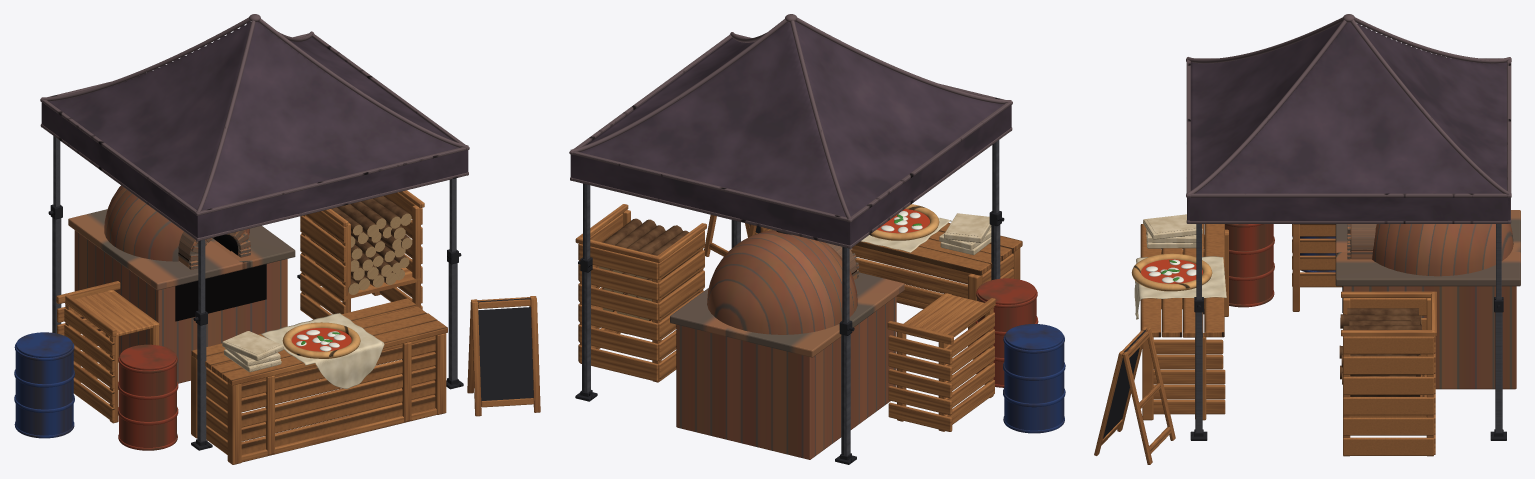
File: pizzeria 1.glb
3 renders of one model, left to right at view 1: azimuth 30°, elevation 25°; view 2: azimuth 150°, elevation 25°; view 3: azimuth 270°, elevation 25°, orthographic. The views are drawn at different scales.
Parts seen in each view (by area): view 1: Canopy_Roof, Oven_Base, Valance_Front, Oven_Slab, Sign_Board, Barrel_Blue_Body, Barrel_Red_Body, Oven_Dome, Valance_Left, Oven_Recess, Cloth, Counter_Front_2 (+53 smaller); view 2: Canopy_Roof, Oven_Base, Oven_Dome, Valance_Back, Oven_Slab, Barrel_Blue_Body, Valance_Left, Counter_Front_1, Counter_Top_3, Barrel_Red_Body, Counter_Front_2, WCrate_Back_3 (+45 smaller); view 3: Canopy_Roof, Oven_Base, Valance_Right, Oven_Dome, Oven_Slab, Barrel_Red_Body, WCrate_SideR_1, WCrate_SideR_5, WCrate_SideR_2, WCrate_SideR_4, WCrate_SideR_0, WCrate_SideR_3 (+43 smaller).
Part boxes in pixels (left/top/right/bottom): Canopy_Roof: left=48, top=21, right=459, bottom=210; Oven_Base: left=74, top=230, right=287, bottom=383; Valance_Front: left=196, top=150, right=466, bottom=237; Oven_Slab: left=68, top=209, right=295, bottom=290; Sign_Board: left=478, top=307, right=533, bottom=401; Barrel_Blue_Body: left=15, top=351, right=73, bottom=435; Barrel_Red_Body: left=119, top=364, right=176, bottom=447; Oven_Dome: left=104, top=185, right=249, bottom=261; Valance_Left: left=42, top=102, right=199, bottom=237; Oven_Recess: left=175, top=264, right=266, bottom=321; Cloth: left=261, top=313, right=384, bottom=388; Counter_Front_2: left=241, top=366, right=435, bottom=427; Canopy_Roof: left=580, top=21, right=1003, bottom=216; Oven_Base: left=676, top=296, right=896, bottom=459; Oven_Dome: left=707, top=230, right=857, bottom=334; Valance_Back: left=570, top=155, right=851, bottom=245; Oven_Slab: left=670, top=272, right=904, bottom=357; Barrel_Blue_Body: left=1004, top=343, right=1064, bottom=430; Valance_Left: left=848, top=105, right=1011, bottom=245; Counter_Front_1: left=855, top=257, right=967, bottom=298; Counter_Top_3: left=855, top=241, right=990, bottom=275; Barrel_Red_Body: left=977, top=298, right=1036, bottom=384; Counter_Front_2: left=851, top=245, right=970, bottom=284; WCrate_Back_3: left=579, top=284, right=658, bottom=320; Canopy_Roof: left=1190, top=22, right=1506, bottom=193; Oven_Base: left=1343, top=286, right=1516, bottom=389; Valance_Right: left=1187, top=197, right=1509, bottom=220; Oven_Dome: left=1372, top=224, right=1513, bottom=276; Oven_Slab: left=1335, top=210, right=1520, bottom=286; Barrel_Red_Body: left=1225, top=224, right=1273, bottom=304; WCrate_SideR_1: left=1343, top=417, right=1433, bottom=435; WCrate_SideR_5: left=1343, top=336, right=1433, bottom=354; WCrate_SideR_2: left=1343, top=397, right=1433, bottom=415; WCrate_SideR_4: left=1343, top=356, right=1433, bottom=374; WCrate_SideR_0: left=1343, top=437, right=1433, bottom=455; WCrate_SideR_3: left=1343, top=376, right=1433, bottom=394.
Size of the model in its own units: 4.97 by 3.84 by 4.13.
28 materials, 28 textured.
